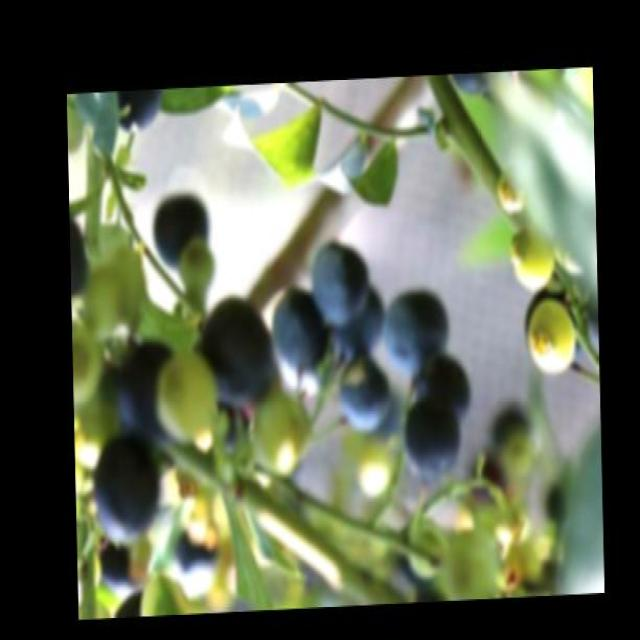blueberry: (202, 301, 269, 408), (90, 441, 160, 543), (382, 282, 451, 380), (115, 339, 176, 442), (269, 294, 326, 382), (403, 397, 460, 481), (310, 242, 367, 324), (151, 195, 213, 268), (341, 356, 395, 431)
blueberry-unripe: (156, 350, 217, 445), (521, 295, 578, 380), (248, 389, 306, 472), (508, 220, 556, 293), (498, 164, 526, 212)
